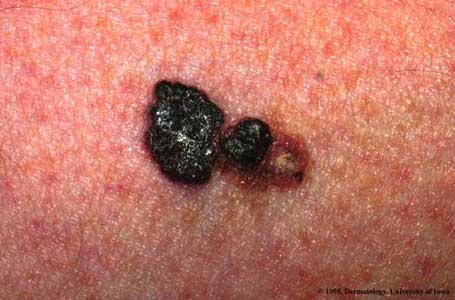melanoma: (109, 72, 339, 216)
